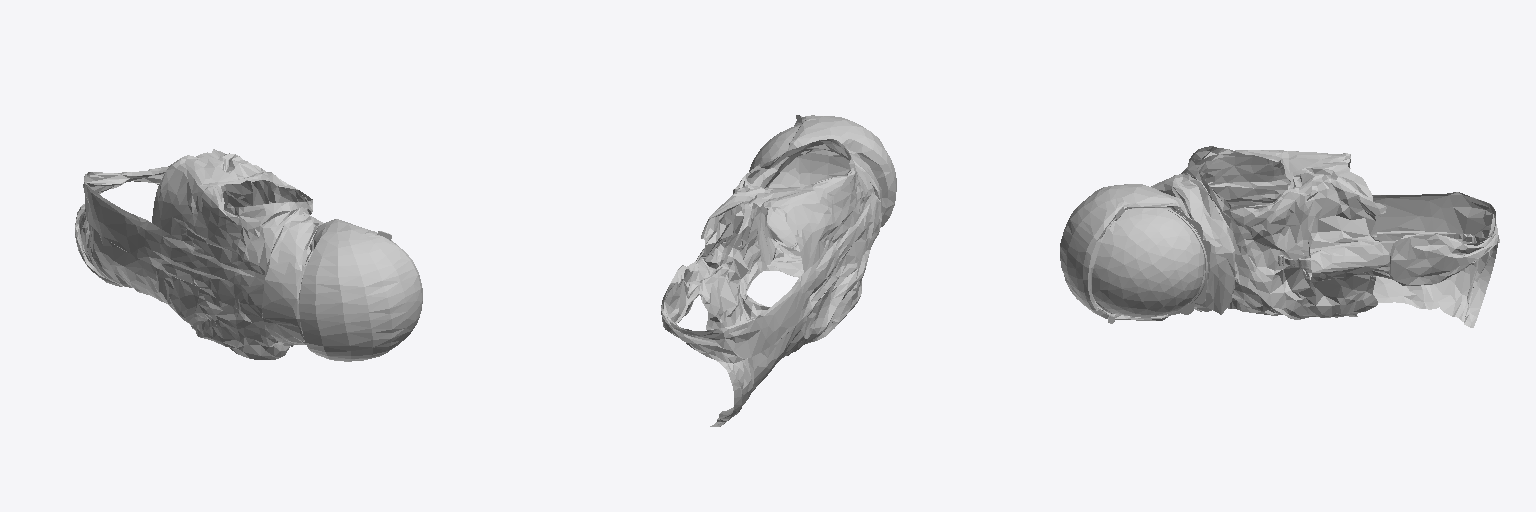
The model's file is ar_low_piece3.obj.
The picture shows the model from 3 angles: view 1: azimuth 30°, elevation 25°; view 2: azimuth 150°, elevation 25°; view 3: azimuth 270°, elevation 25°; orthographic projection.
Visible parts, largest first — view 1: sd1_8kPoints_Piece3; view 2: sd1_8kPoints_Piece3; view 3: sd1_8kPoints_Piece3.
Boxes of the visible parts, box(x1,y1,x2,y2) form: sd1_8kPoints_Piece3: box(75, 149, 422, 361); sd1_8kPoints_Piece3: box(661, 115, 896, 426); sd1_8kPoints_Piece3: box(1060, 146, 1499, 327).
Bounding box in the file's own units: 474 × 503 × 1107.